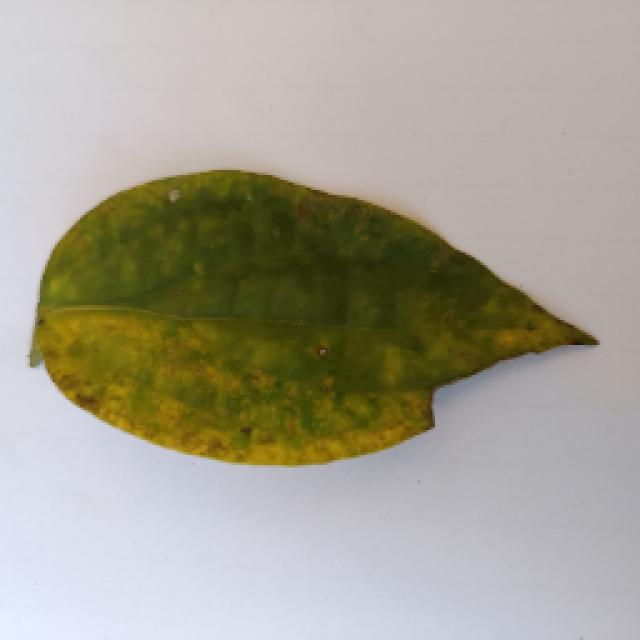slow-decline: (28, 170, 598, 460)
